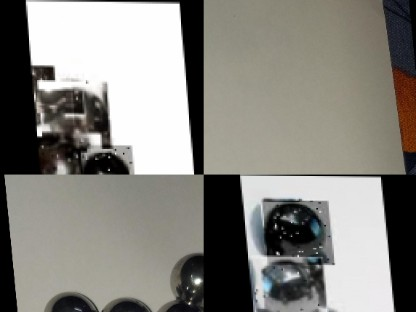ironball: (34, 79, 105, 153), (259, 199, 331, 264), (248, 255, 323, 311), (164, 254, 206, 306), (33, 136, 81, 174), (29, 76, 66, 124), (74, 144, 129, 174), (44, 292, 99, 310), (104, 292, 157, 309)
